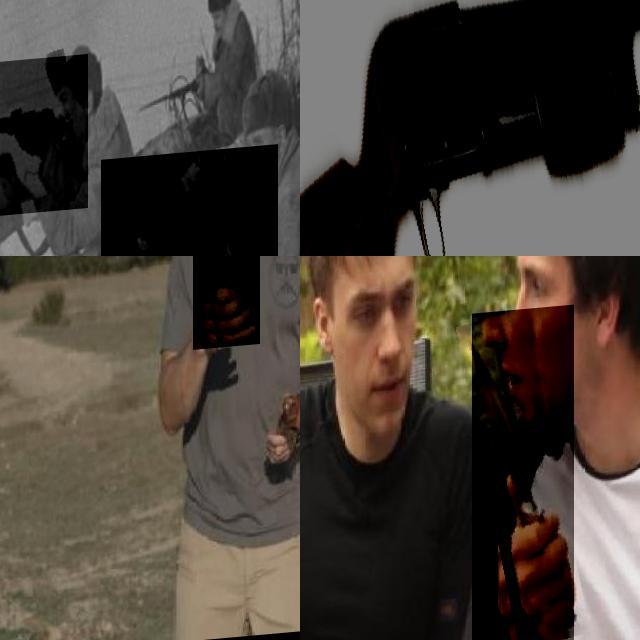-: (471, 312, 574, 640), (192, 256, 260, 354)
gun-knife-thesis - v11 Yolov5 augmented: (300, 0, 640, 256), (101, 152, 278, 256), (0, 59, 88, 225)
